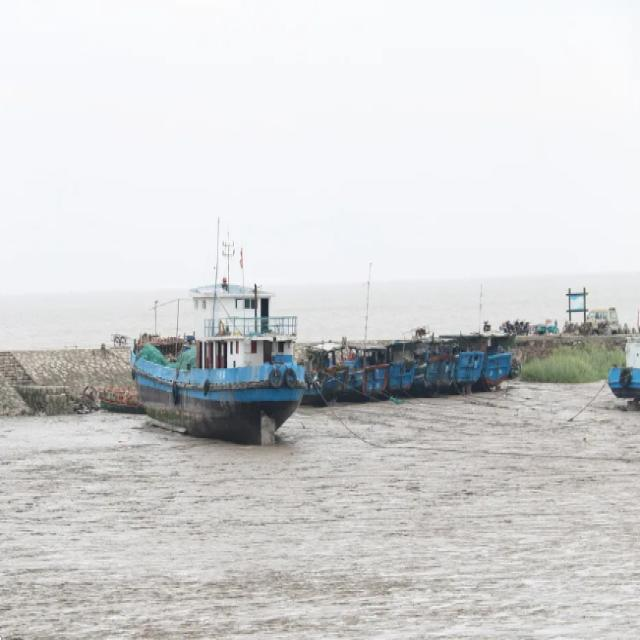fishing boat: (124, 247, 305, 444)
